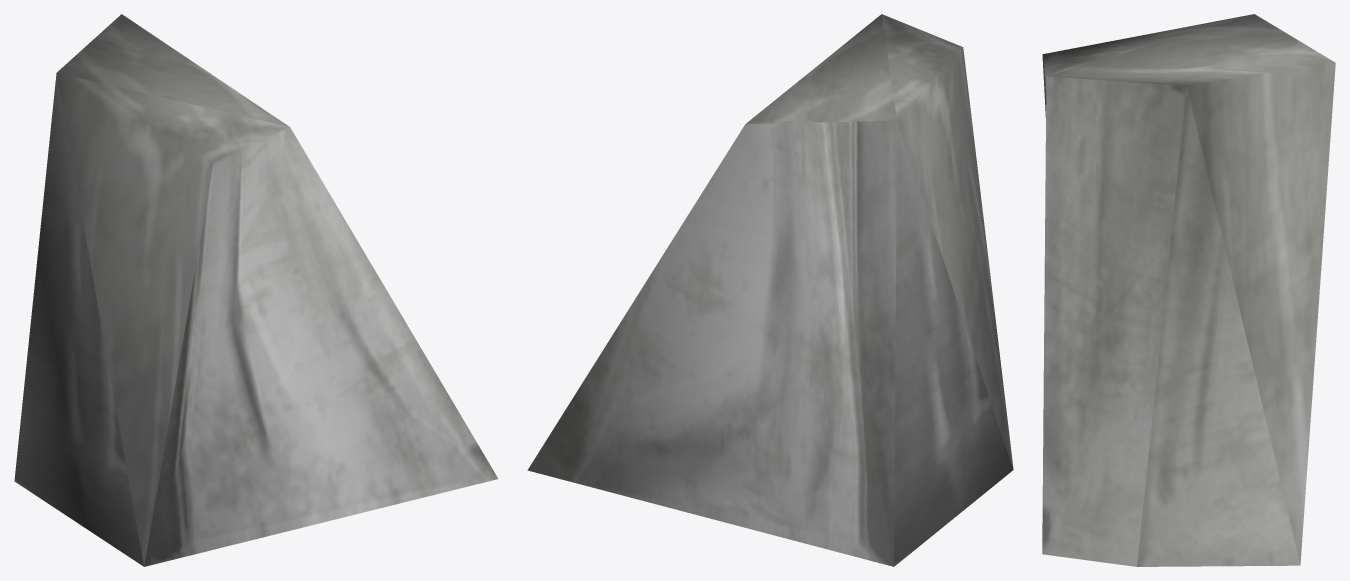
File: 15_R_Pequeña_LOD_2.fbx
3 views of the same model, side by side, from view 1: azimuth 30°, elevation 25°; view 2: azimuth 150°, elevation 25°; view 3: azimuth 270°, elevation 25° (orthographic). The views are drawn at different scales.
Visible parts, largest first — view 1: 15_R_Pequeña_LOD_2; view 2: 15_R_Pequeña_LOD_2; view 3: 15_R_Pequeña_LOD_2.
Part boxes in pixels (left/top/right/bottom): 15_R_Pequeña_LOD_2: left=14, top=14, right=498, bottom=566; 15_R_Pequeña_LOD_2: left=527, top=14, right=1013, bottom=566; 15_R_Pequeña_LOD_2: left=1042, top=14, right=1335, bottom=566.
Size of the model in its own units: 413 by 466 by 305.
